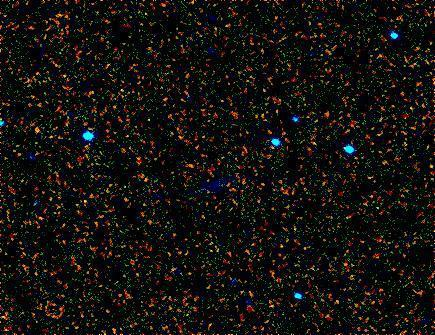star: (22, 116, 52, 146)
